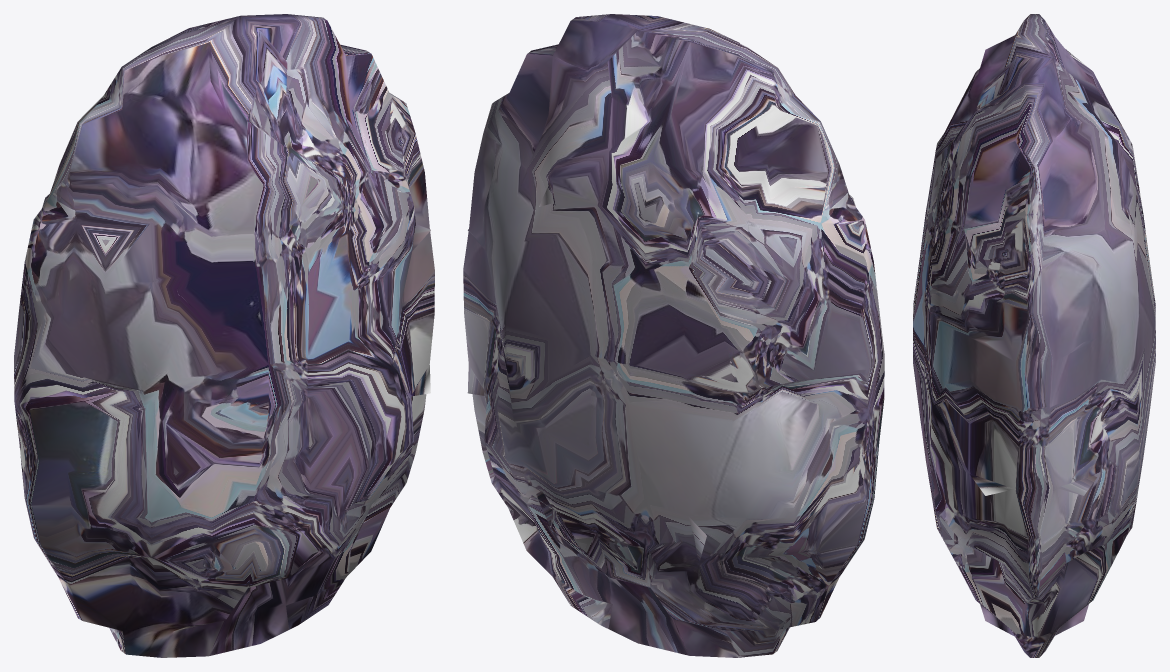
Rendered from crystal_4_small.glb.
3 views of the same model, side by side, from view 1: azimuth 30°, elevation 25°; view 2: azimuth 150°, elevation 25°; view 3: azimuth 270°, elevation 25° (orthographic). The views are drawn at different scales.
Visible parts, largest first — view 1: crystal; view 2: crystal; view 3: crystal.
Part boxes in pixels (x1,y1,x2,y2): crystal: (14, 14, 434, 657); crystal: (463, 14, 884, 657); crystal: (913, 14, 1155, 657).
Size of the model in its own units: 0.6279 by 0.9104 by 0.3464.
Materials: 1 (1 with a texture image).
